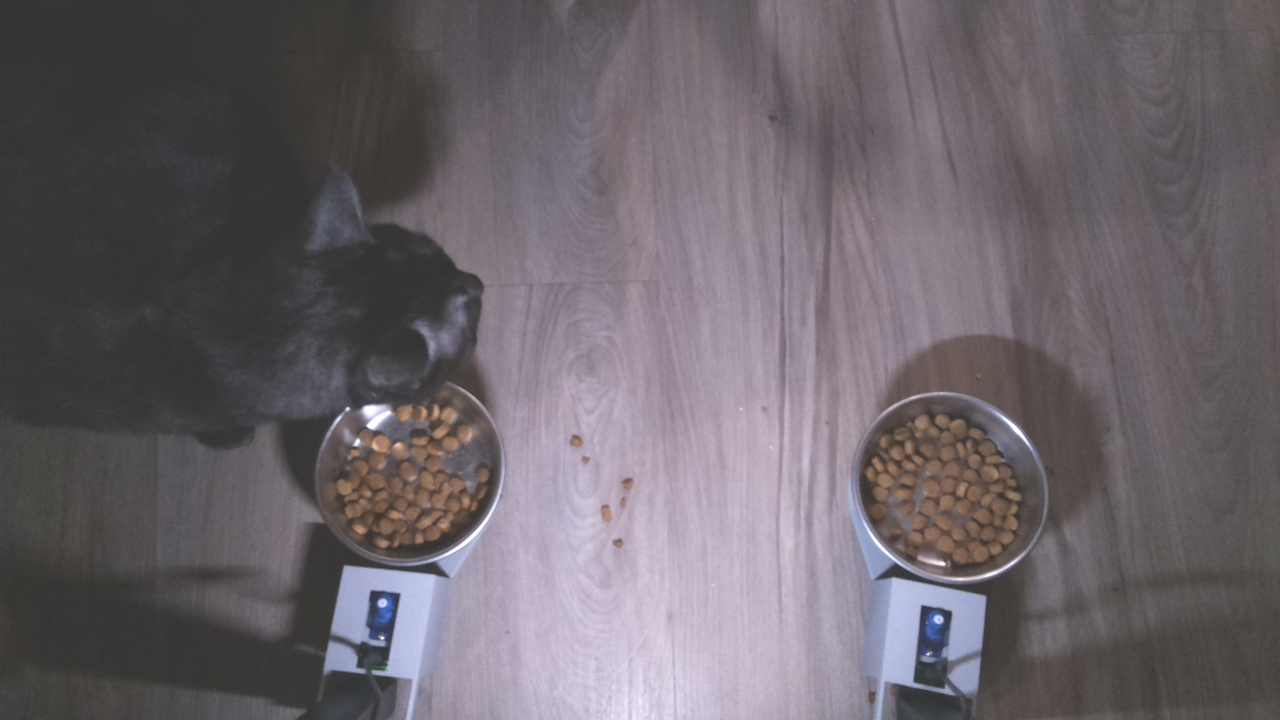open_bowl: (849, 390, 1055, 585), (313, 404, 509, 568)
saki: (263, 149, 499, 421)
